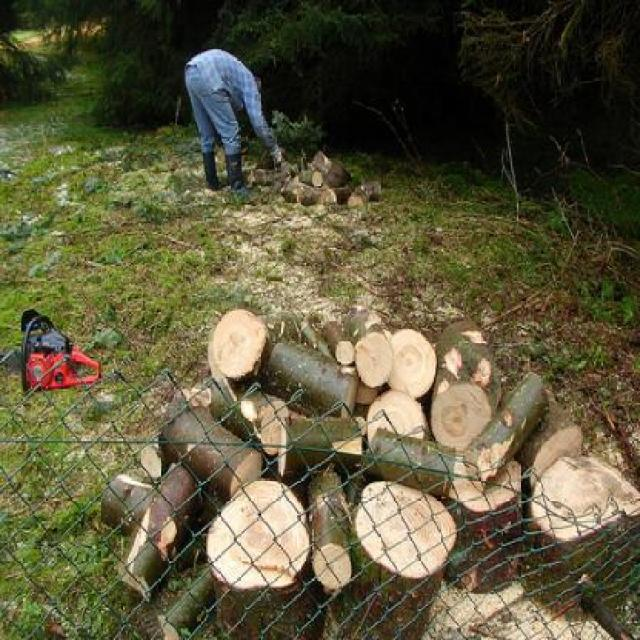Chainsaw: (18, 308, 105, 394)
